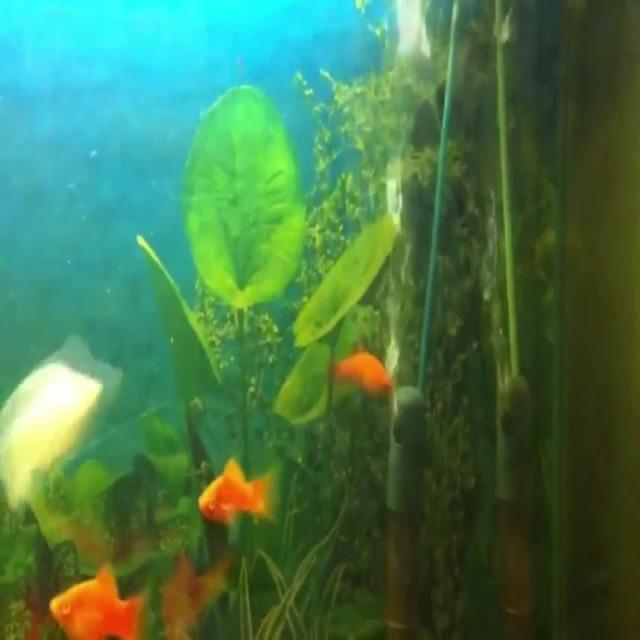PlatyFish: (190, 447, 299, 541), (37, 553, 150, 640)
